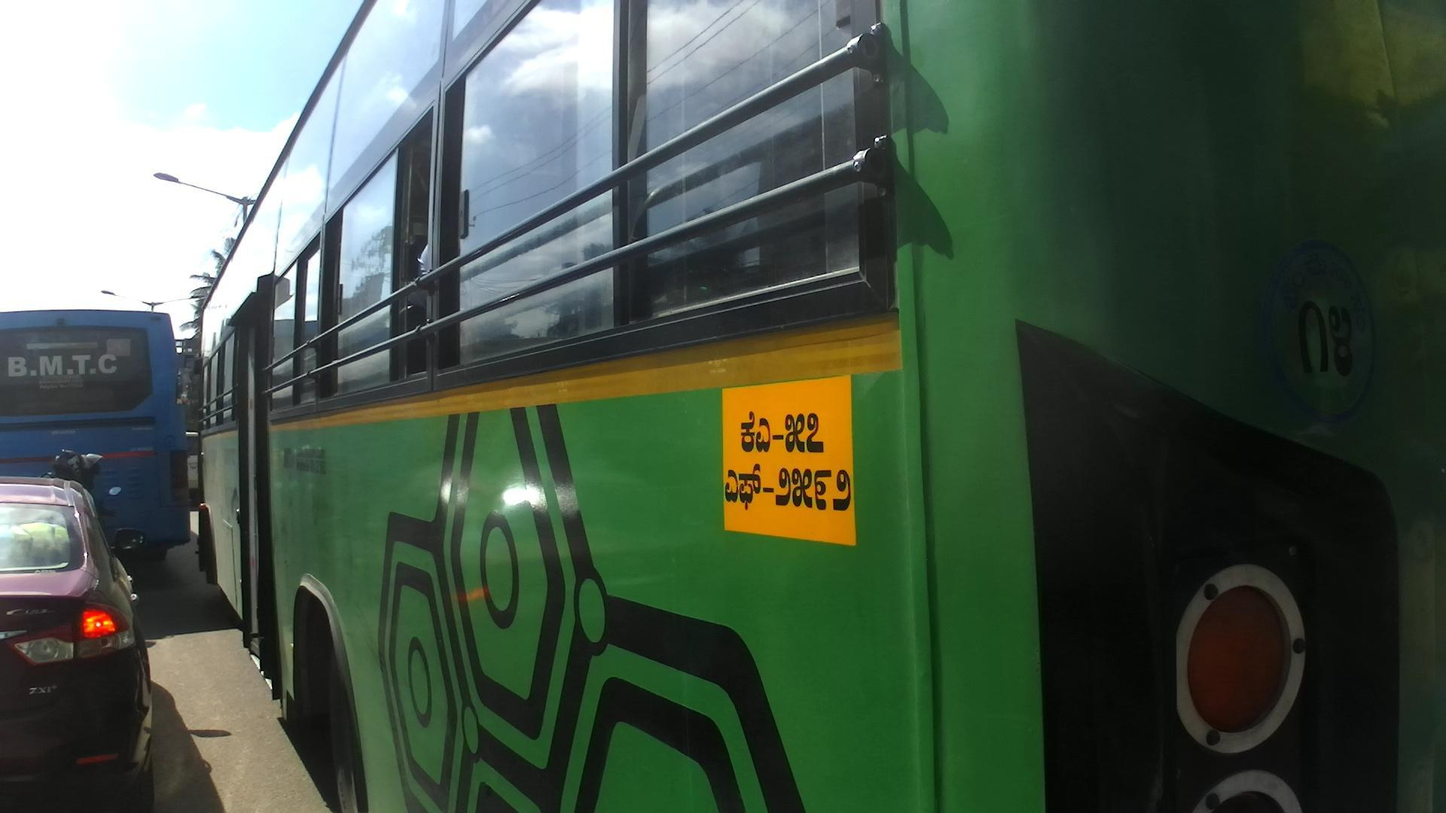streetlight: (149, 171, 248, 221), (99, 288, 156, 315), (155, 293, 203, 315)
